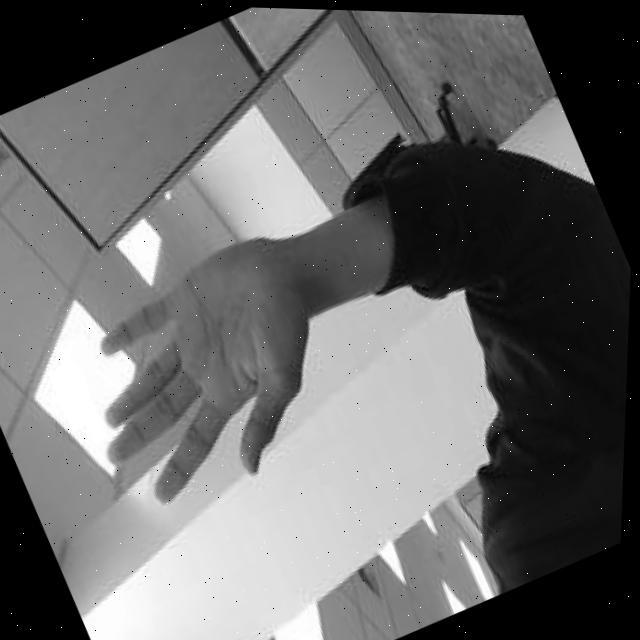no-gloves: (38, 216, 369, 536)
